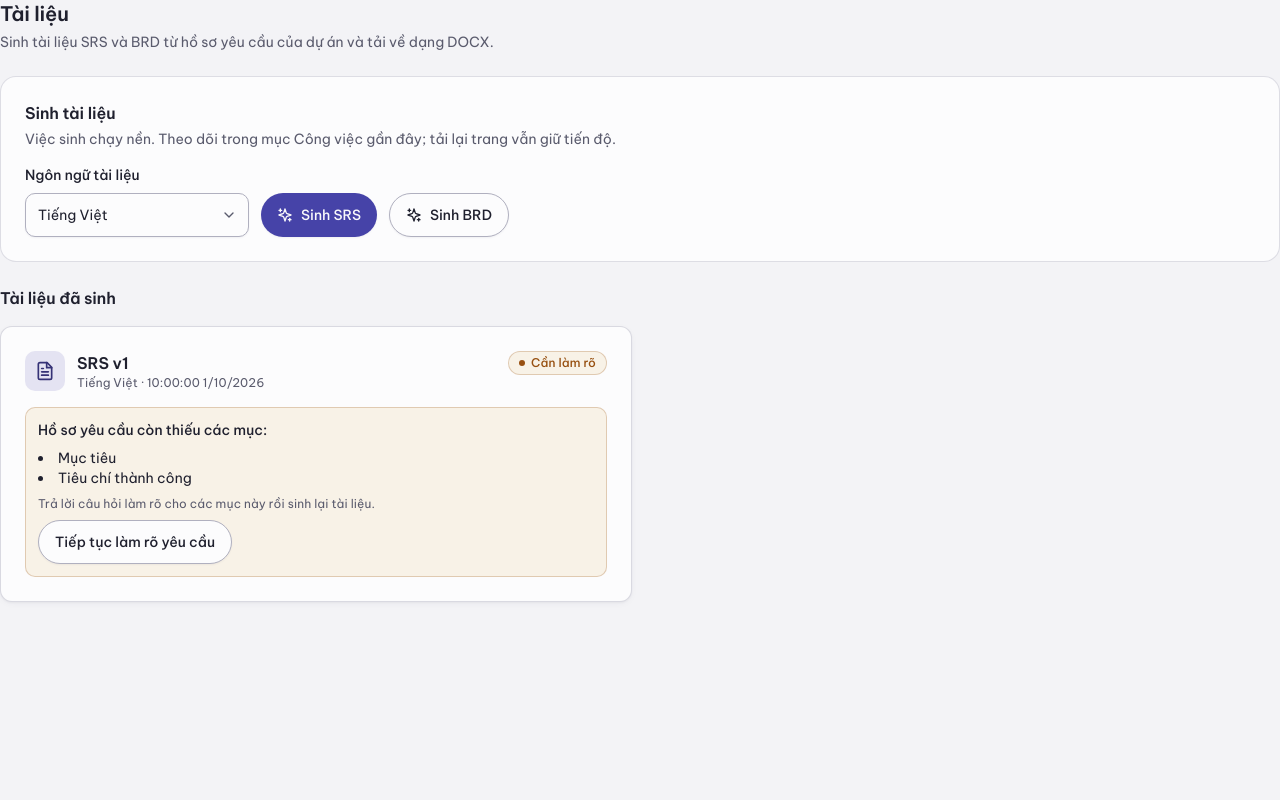
Test case: trang tài liệu › cần làm rõ: liệt kê mục thiếu đã dịch và mở luồng hỏi với đúng hồ sơ
Expected: the text "Cần làm rõ" is shown, x1=508 y1=351 x2=607 y2=375
Expected: the list item "Mục tiêu" is shown, x1=58 y1=449 x2=116 y2=467
Click the button "Tiếp tục làm rõ yêu cầu" at (135, 542), box x1=38 y1=520 x2=232 y2=564
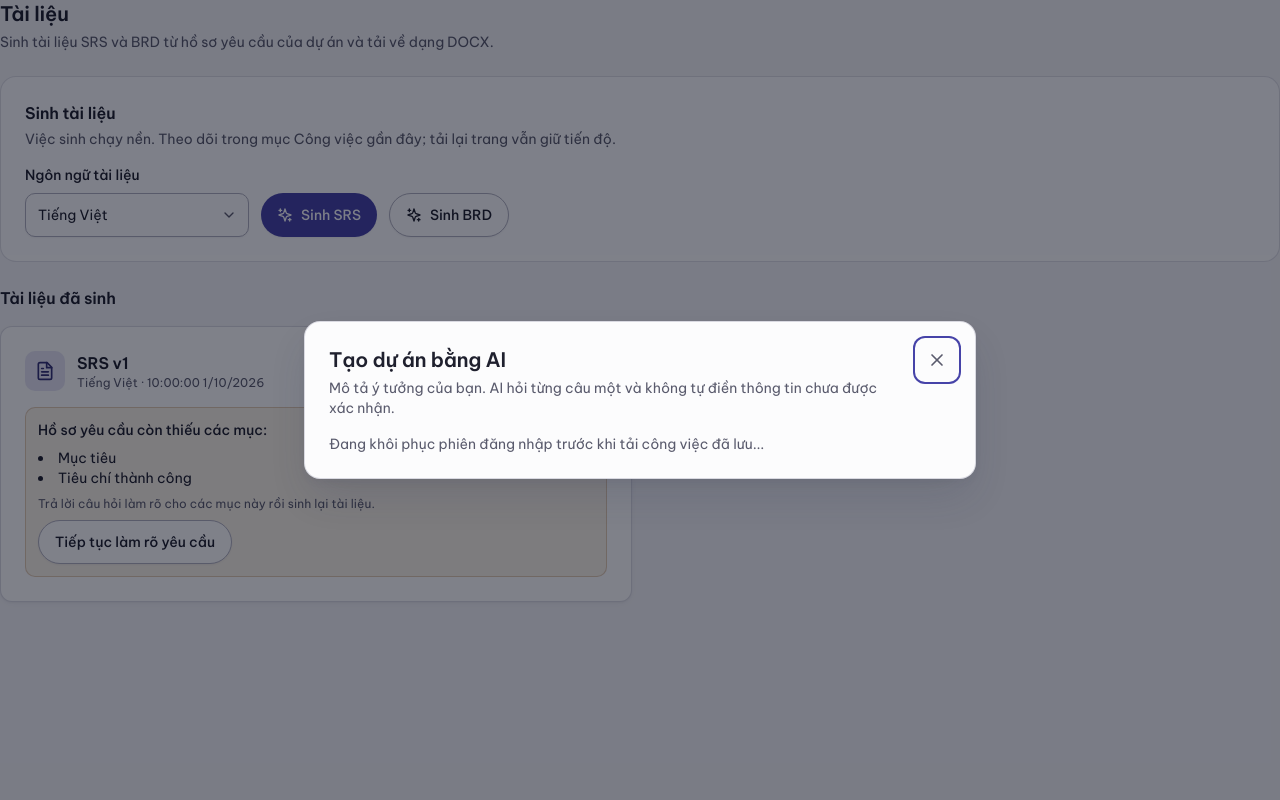
Result: the dialog is shown at x1=304 y1=321 x2=976 y2=479
